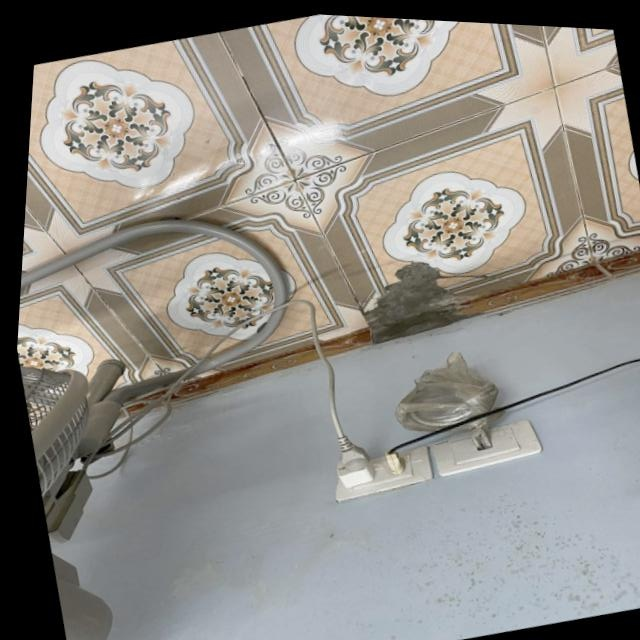outlet: (426, 413, 546, 484), (326, 439, 437, 508)
